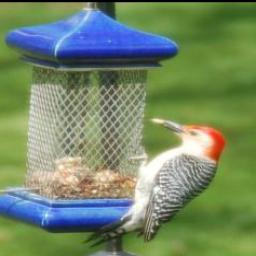Woodpecker: (73, 113, 226, 253)
